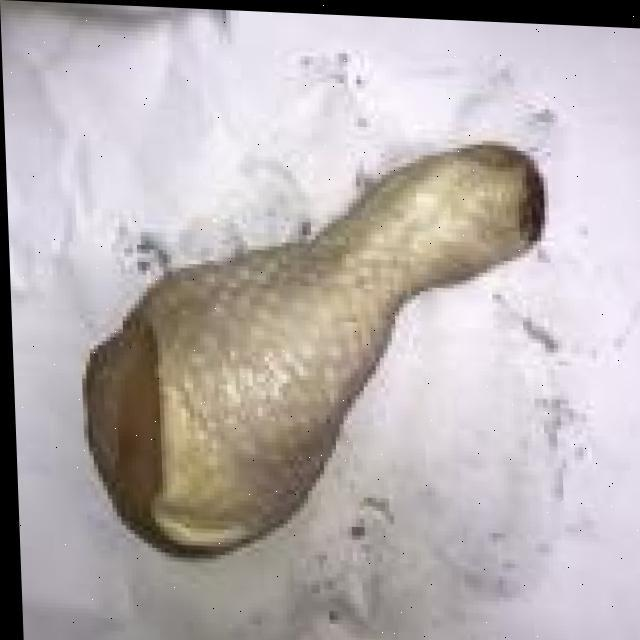leg: (68, 117, 564, 571)
